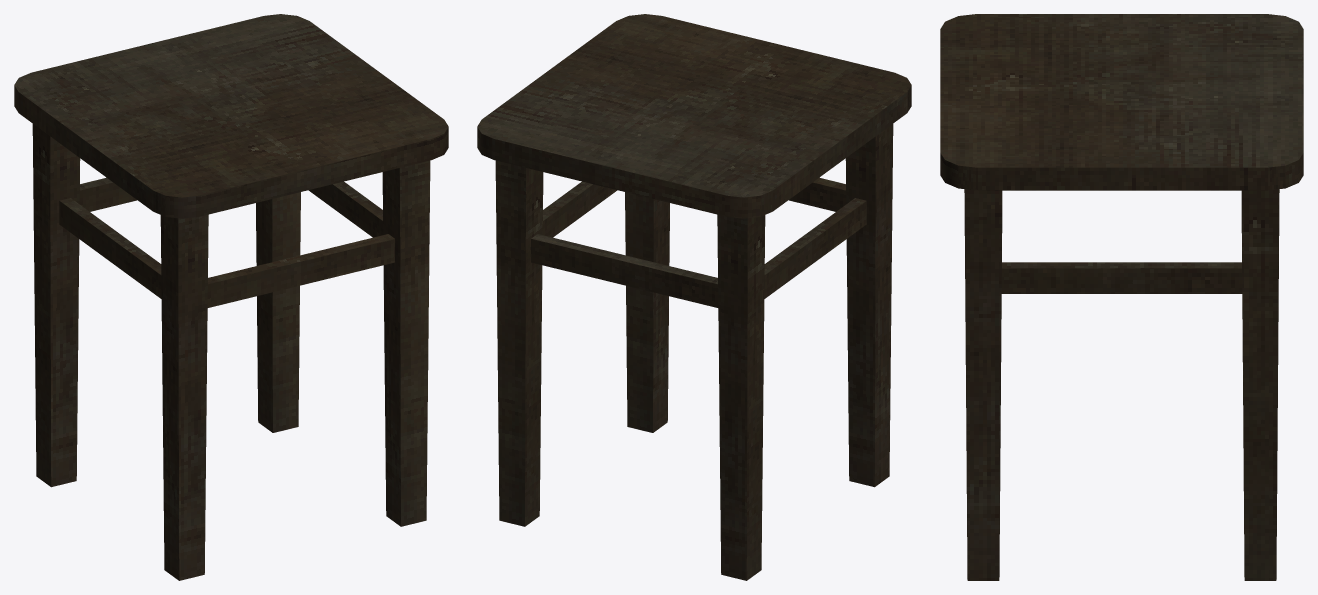
Rendered from chair_mp_2_4.glb.
3 renders of one model, left to right at view 1: azimuth 30°, elevation 25°; view 2: azimuth 150°, elevation 25°; view 3: azimuth 270°, elevation 25°, orthographic. The views are drawn at different scales.
Parts seen in each view (by area): view 1: chair_mp_2_4; view 2: chair_mp_2_4; view 3: chair_mp_2_4.
Part boxes in pixels (x1,y1,x2,y2): chair_mp_2_4: [14, 14, 448, 580]; chair_mp_2_4: [477, 14, 911, 580]; chair_mp_2_4: [940, 14, 1303, 580].
Size of the model in its own units: 0.4607 by 0.594 by 0.4607.
1 material, 1 textured.
